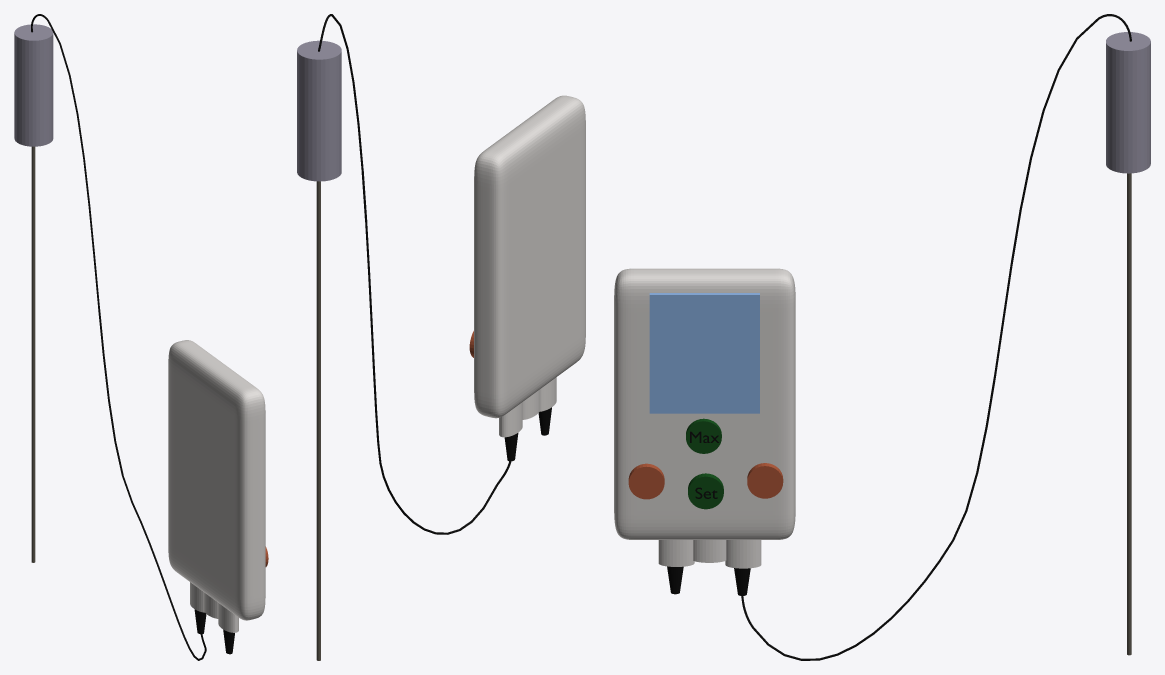
Rendered from DigitalThermometer.gltf.
The picture shows the model from 3 angles, left to right: view 1: azimuth 30°, elevation 25°; view 2: azimuth 150°, elevation 25°; view 3: azimuth 270°, elevation 25°; orthographic projection. The views are drawn at different scales.
Parts seen in each view (by area): view 1: w温度计外壳, w温度柱体, w温度计, 贝塞尔曲线; view 2: w温度计外壳, w温度柱体, w温度计, 贝塞尔曲线, 柱体.002; view 3: w温度计外壳, w温度计显示, w温度柱体, 贝塞尔曲线, w温度计, a按键左, a按键右, a按键下, a按键上.
Boxes of the visible parts, box(x1,y1,x2,y2) form: w温度计外壳: box(168, 340, 265, 632); w温度柱体: box(14, 24, 53, 146); w温度计: box(31, 146, 35, 562); 贝塞尔曲线: box(31, 14, 206, 660); w温度计外壳: box(474, 95, 585, 437); w温度柱体: box(297, 40, 341, 181); w温度计: box(316, 181, 320, 660); 贝塞尔曲线: box(318, 14, 511, 534); 柱体.002: box(499, 403, 522, 437); w温度计外壳: box(614, 268, 795, 568); w温度计显示: box(649, 293, 759, 413); w温度柱体: box(1106, 32, 1150, 173); 贝塞尔曲线: box(741, 14, 1131, 660); w温度计: box(1127, 173, 1131, 655); a按键左: box(628, 463, 664, 499); a按键右: box(747, 463, 783, 498); a按键下: box(688, 473, 723, 509); a按键上: box(686, 418, 721, 453).
Size of the model in its own units: 0.0275 by 0.3136 by 0.2382.
